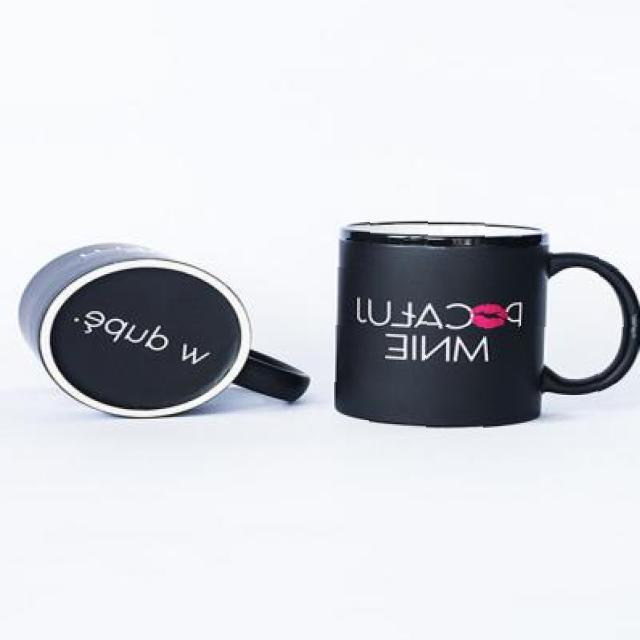cup: (0, 14, 241, 317), (0, 331, 214, 640)
